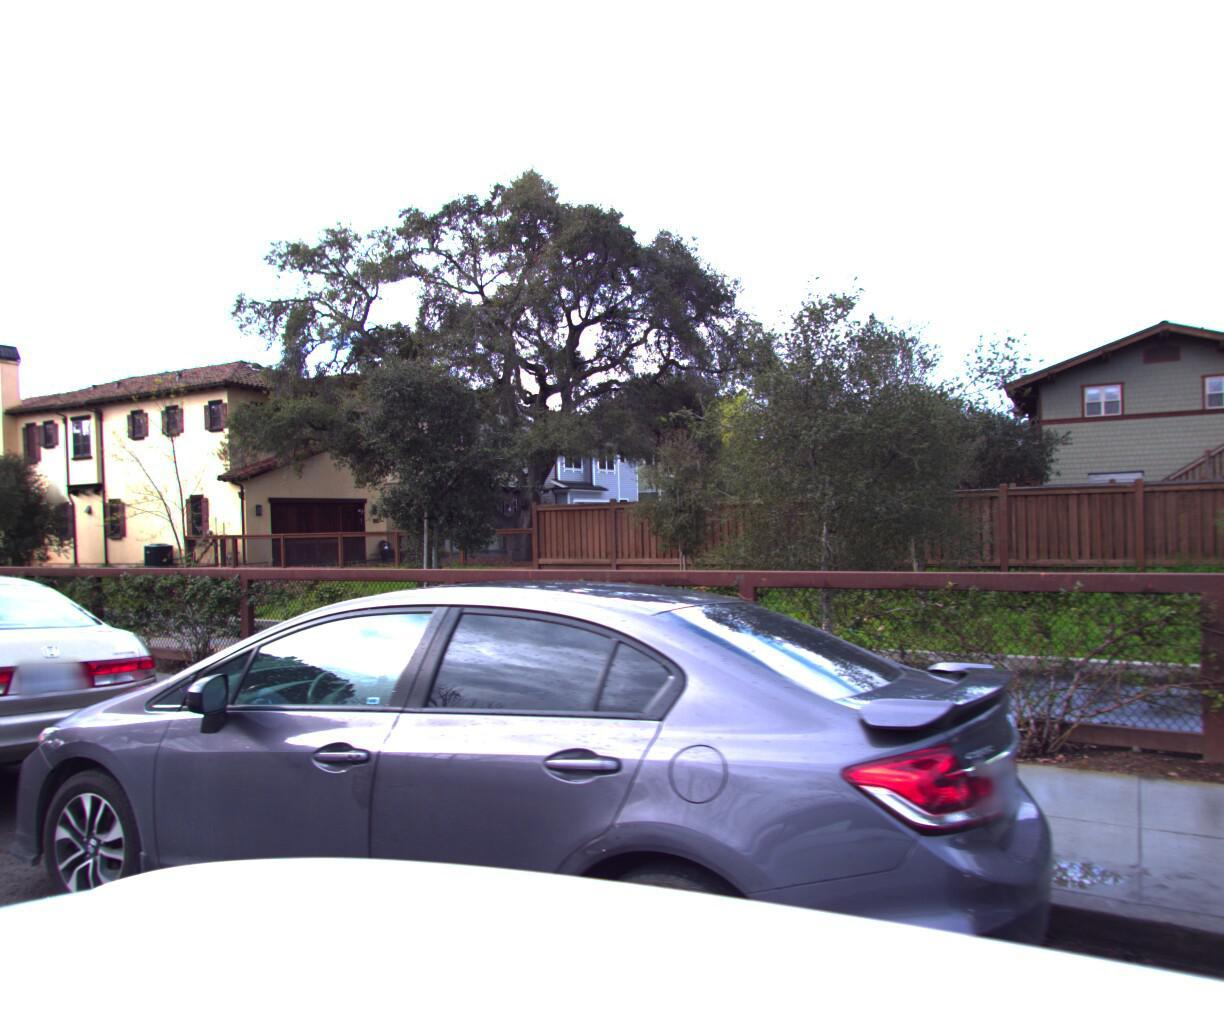car: (0, 550, 1044, 1024), (0, 559, 193, 874)
